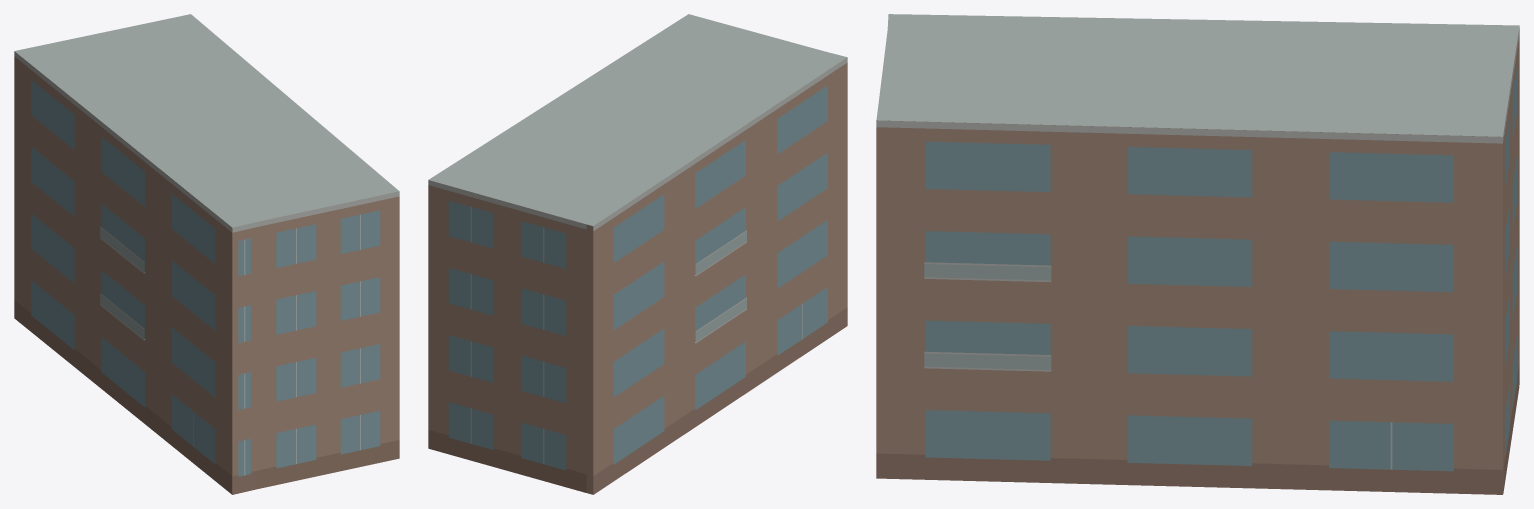
File: survey-upis-32921289.glb
The picture shows the model from 3 angles, left to right: view 1: azimuth 30°, elevation 25°; view 2: azimuth 150°, elevation 25°; view 3: azimuth 270°, elevation 25°; orthographic projection. The views are drawn at different scales.
Parts seen in each view (by area): view 1: survey-upis-32921289.tmp; view 2: survey-upis-32921289.tmp; view 3: survey-upis-32921289.tmp.
Boxes of the visible parts, box(x1,y1,x2,y2) form: survey-upis-32921289.tmp: box(14, 14, 399, 494); survey-upis-32921289.tmp: box(428, 14, 847, 494); survey-upis-32921289.tmp: box(876, 14, 1519, 494).
Size of the model in its own units: 9.5 by 12.9 by 21.01.
